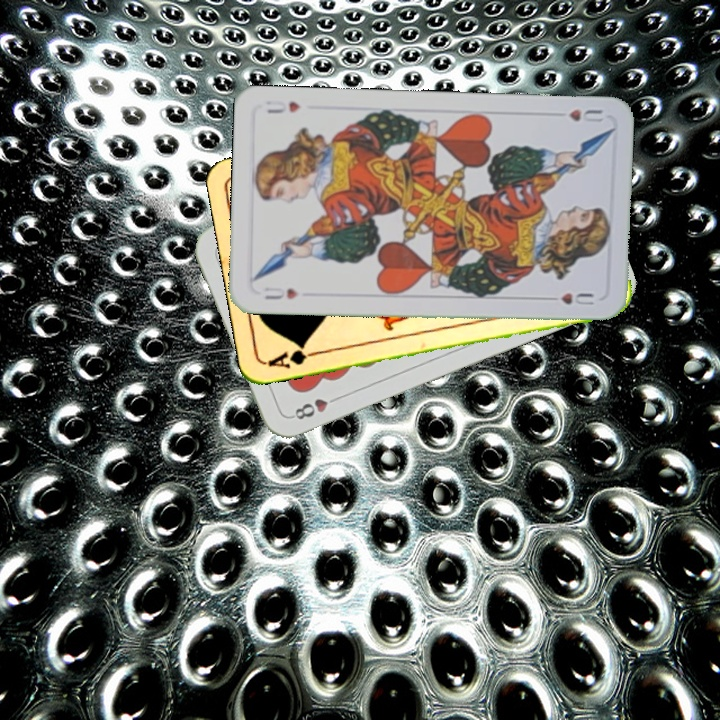GA: (264, 341, 322, 371)
H8: (287, 391, 343, 423)
HU: (566, 105, 606, 125), (260, 283, 301, 302)
